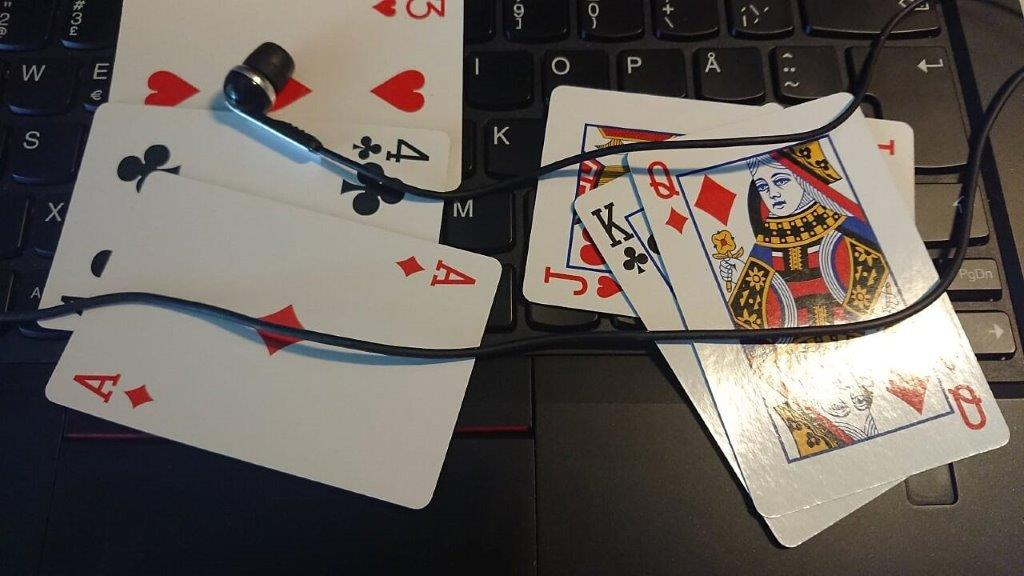KC: (587, 198, 650, 280)
QD: (643, 156, 693, 237)
